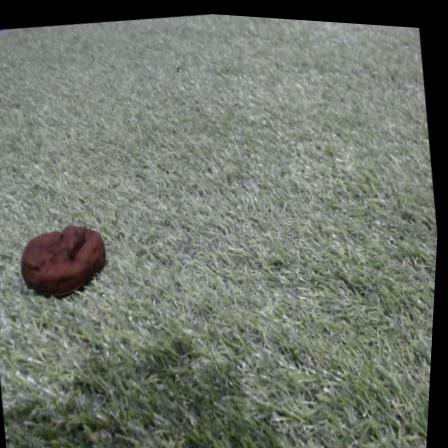dog-poop: (13, 211, 115, 304)
